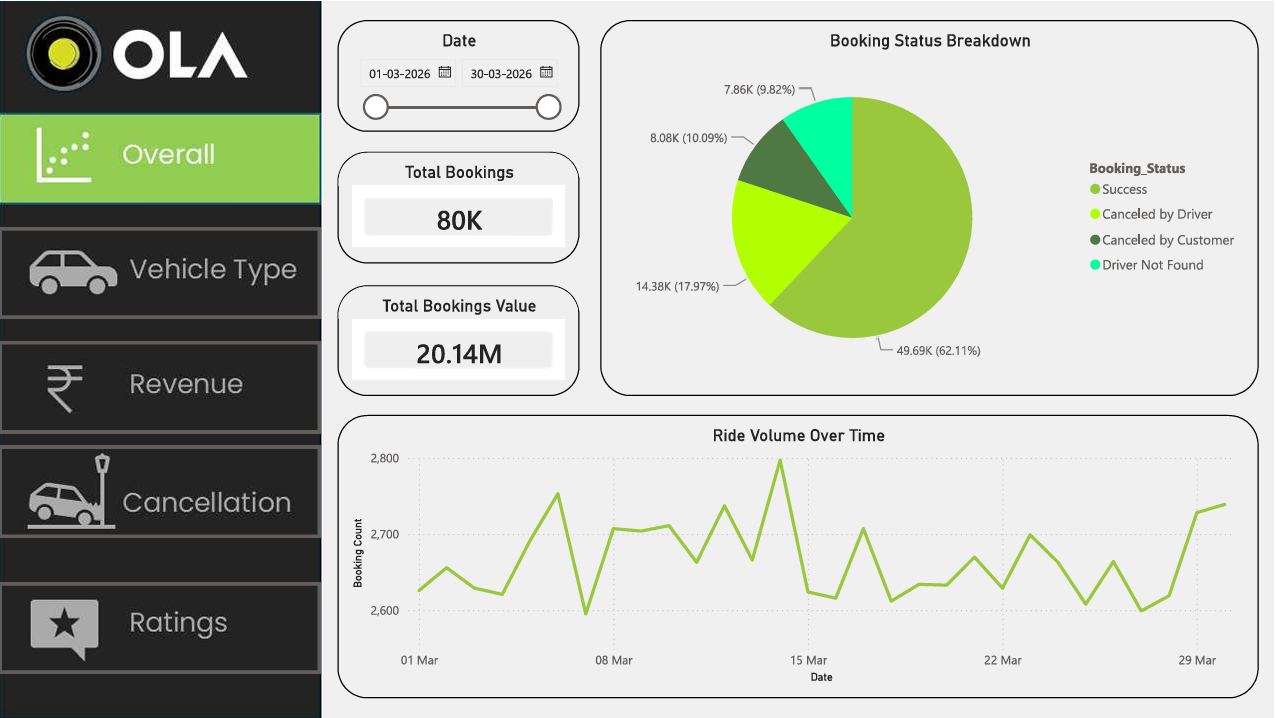

This screenshot's page, from the dashboard's own definition file:
{"tool":"powerbi","page":{"name":"OverAll","canvas":[1280,720],"ordinal":0},"visuals":[{"type":"actionButton","box":[0,225.6,323.3,91.7],"z":0},{"type":"actionButton","box":[0,340.2,323.3,91.7],"z":1000},{"type":"actionButton","box":[0,445.2,323.3,91.7],"z":2000},{"type":"actionButton","box":[0,581.5,323.3,91.7],"z":3000},{"type":"lineChart","title":"Ride Volume Over Time","fields":{"Category":["Thane Ride Data.Date"],"Y":["CountNonNull(Thane Ride Data.Booking_ID)"]},"box":[340.3,414.4,924.9,284],"z":4000},{"type":"pieChart","title":"Booking Status Breakdown","fields":{"Category":["Thane Ride Data.Booking_Status"],"Y":["CountNonNull(Thane Ride Data.Booking_ID)"]},"box":[603.8,17.8,661.4,377.4],"z":5000},{"type":"slicer","title":"Date","fields":{"Values":["Thane Ride Data.Date"]},"box":[340.3,17.8,242.9,112.5],"z":6000},{"type":"cardVisual","title":"Total Bookings","fields":{"Data":["CountNonNull(Thane Ride Data.Booking_ID)"]},"box":[340.3,149.6,242.9,112.5],"z":7000},{"type":"cardVisual","title":"Total Bookings Value","fields":{"Data":["Thane Ride Data.Total Adjusted Booking Value"]},"box":[340.3,284,242.9,111.1],"z":8000}]}

Visuals, with their boxes in screenshot pixels (x1, y1, x2, y2), scaled from the page's 1280x720 canvas onto the 1276x718 screenshot:
actionButton: bbox=(0, 225, 322, 316)
actionButton: bbox=(0, 339, 322, 431)
actionButton: bbox=(0, 444, 322, 535)
actionButton: bbox=(0, 580, 322, 671)
"Ride Volume Over Time" lineChart: bbox=(339, 413, 1261, 696)
"Booking Status Breakdown" pieChart: bbox=(602, 18, 1261, 394)
"Date" slicer: bbox=(339, 18, 581, 130)
"Total Bookings" cardVisual: bbox=(339, 149, 581, 261)
"Total Bookings Value" cardVisual: bbox=(339, 283, 581, 394)
